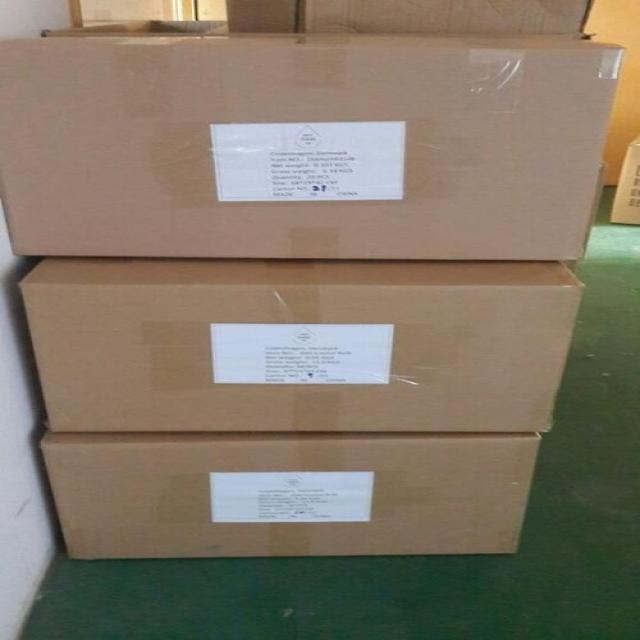box: (0, 33, 625, 263), (16, 256, 585, 434), (40, 429, 540, 560), (226, 1, 593, 34), (47, 18, 229, 32)
